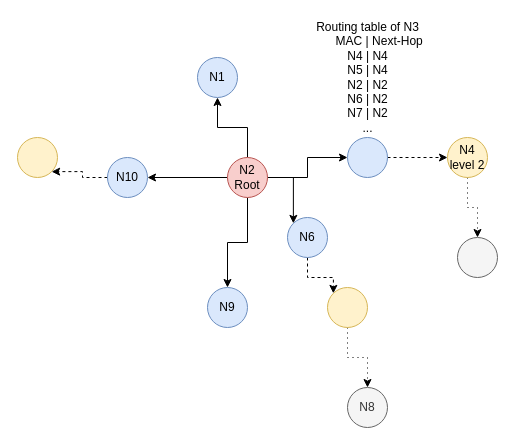
This 515x445 diagram has some shape labels left out. The shapes that lost their labels are listed below. From the top down, each one's centre as x and y in pixels, then its label:
At (37,157): "N11".
At (367,157): "N3 level 1".
At (477,257): "N5 level 3".
At (347,307): "N7".
